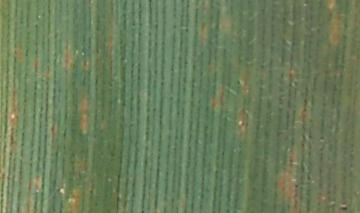tarspot: (341, 207, 347, 210)
